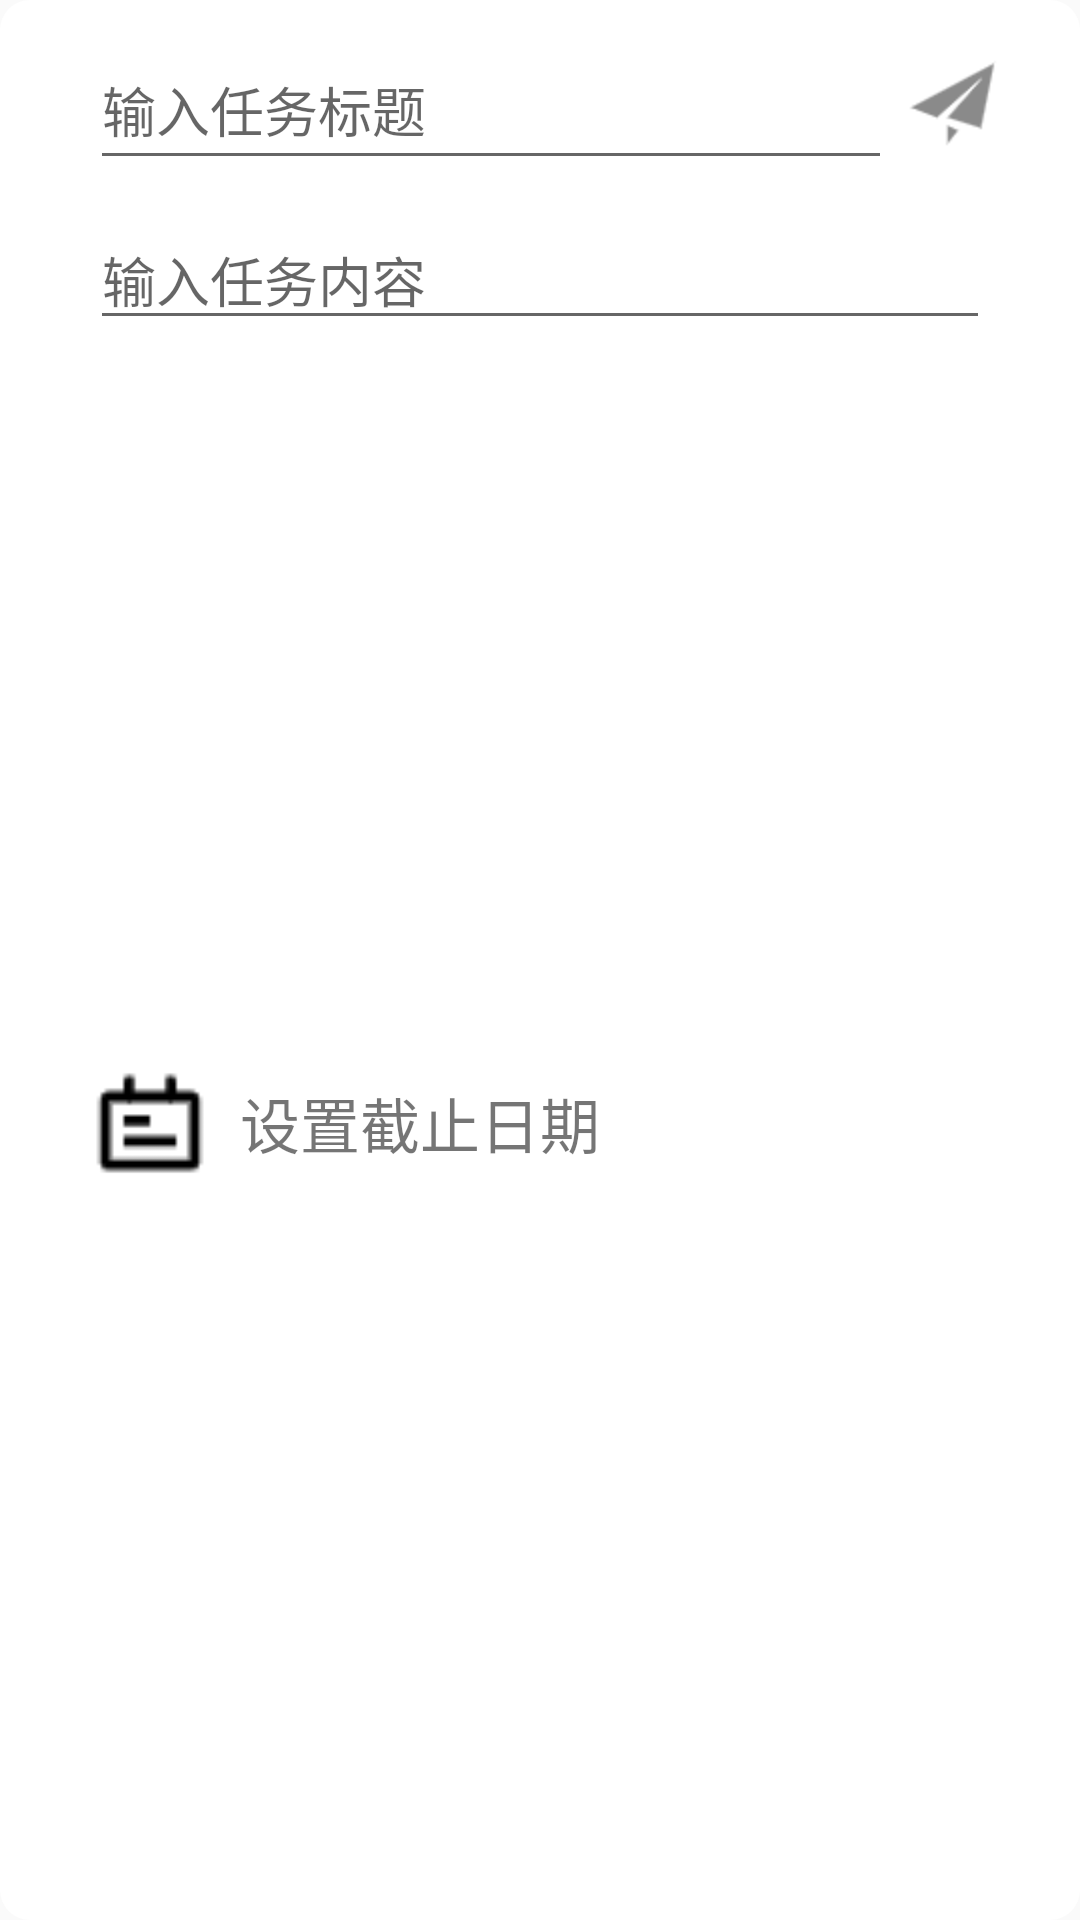

Named icons in this screenshot (1080 × 1920) and their centers, (x=x, y=y):
date: (x=150, y=1123)
put: (x=952, y=103)
